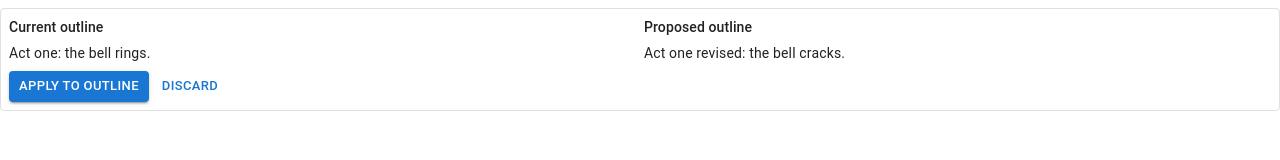
Test case: OutlineRevision › apply replaces the outline and shows it applied
Click the button "Apply to outline".
click(79, 86)  # box x1=9 y1=71 x2=149 y2=102
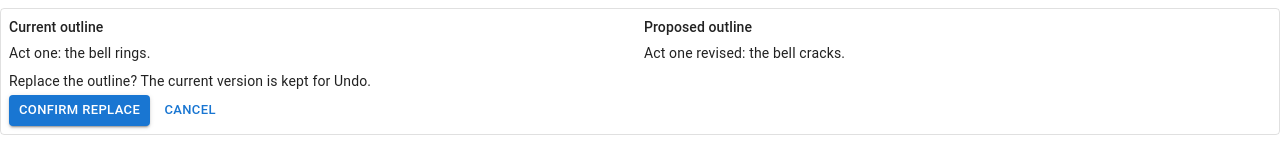
Click the button "Confirm replace".
click(80, 110)  # box x1=9 y1=95 x2=150 y2=126
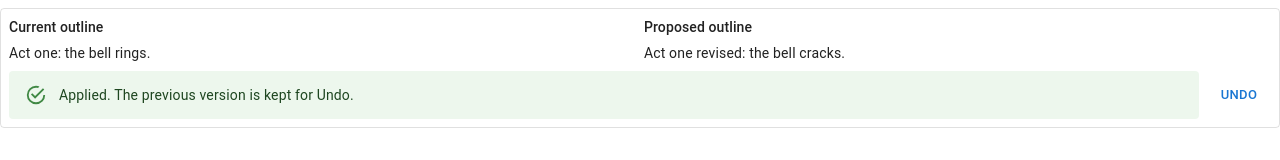
Result: the text "Applied" is shown at x1=59 y1=87 x2=354 y2=103
